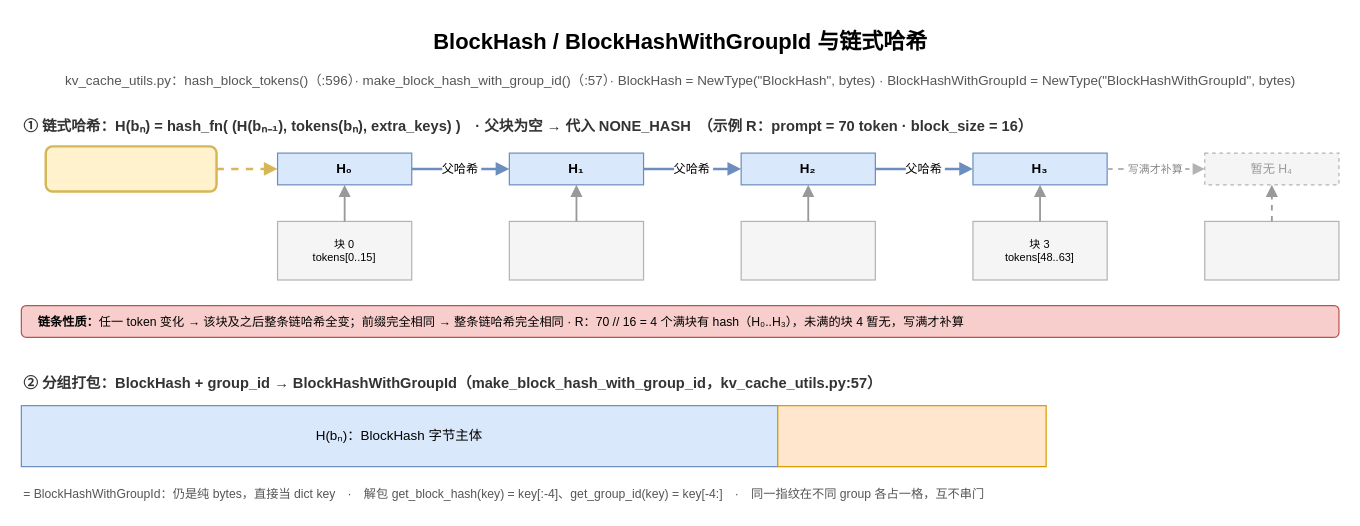
This 1360x526 diagram has some shape labels left out. Here are the shapes that lost their labels. From the top down, the centre of each, then its label:
At point (130, 168): "NONE_HASH 第一个块的伪造父哈希".
At point (576, 250): "块 1 tokens[16..31]".
At point (807, 250): "块 2 tokens[32..47]".
At point (1271, 250): "块 4 · 未满 tokens[64..69]".
At point (911, 435): "group_id 4 字节 big-endian".
